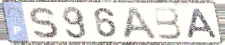6: (93, 7, 119, 39)
9: (61, 5, 89, 41)
A: (121, 6, 160, 41), (184, 7, 220, 39)
B: (152, 6, 184, 40)
S: (27, 6, 60, 40)
